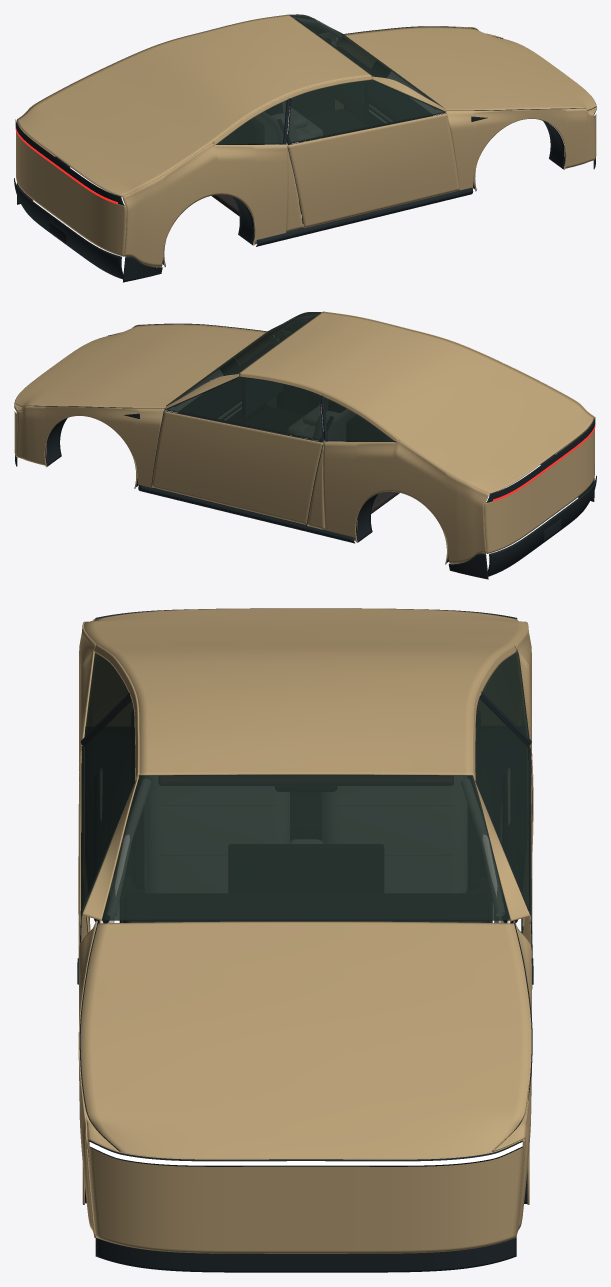
The model's file is cybercab-body.glb.
3 renders of one model, top to bottom at view 1: azimuth 30°, elevation 25°; view 2: azimuth 150°, elevation 25°; view 3: azimuth 270°, elevation 25°, orthographic. The views are drawn at different scales.
Visible parts, largest first — view 1: body_hatch, body_fender_1, body_door_1, body_hood, body_window_1, body_rear, detail_rear_valance, body_windshield, detail_quarter_glass_1, detail_rocker_1, detail_rear_applique, detail_rear_bumper_return_1 (+4 smaller); view 2: body_hatch, body_fender_-1, body_hood, body_door_-1, body_window_-1, body_rear, body_windshield, detail_rear_valance, detail_quarter_glass_-1, detail_rocker_-1, detail_rear_applique, detail_rear_bumper_return_-1 (+6 smaller); view 3: body_hood, body_hatch, body_windshield, body_front, detail_front_valance, body_window_1, body_window_-1, body_fender_1, body_fender_-1, detail_headlight, detail_quarter_glass_-1, detail_headlight_recess (+6 smaller).
Part boxes in pixels (x1,y1,x2,y2): body_hatch: (17, 14, 370, 196); body_fender_1: (122, 75, 595, 267); body_door_1: (287, 113, 459, 228); body_hood: (344, 26, 596, 110); body_window_1: (288, 79, 445, 143); body_rear: (16, 131, 126, 256); detail_rear_valance: (14, 178, 123, 279); body_windshield: (289, 14, 443, 107); detail_quarter_glass_1: (216, 100, 286, 144); detail_rocker_1: (256, 187, 473, 246); detail_rear_applique: (15, 119, 124, 205); detail_rear_bumper_return_1: (123, 256, 162, 282); body_hatch: (240, 312, 593, 493); body_fender_-1: (16, 373, 488, 564); body_hood: (14, 324, 266, 408); body_door_-1: (151, 411, 322, 524); body_window_-1: (166, 377, 322, 440); body_rear: (484, 429, 594, 553); body_windshield: (166, 312, 321, 406); detail_rear_valance: (487, 475, 596, 576); detail_quarter_glass_-1: (323, 397, 396, 442); detail_rocker_-1: (138, 485, 354, 543); detail_rear_applique: (486, 417, 595, 502); detail_rear_bumper_return_-1: (448, 553, 488, 579); body_hood: (80, 921, 531, 1158); body_hatch: (84, 608, 528, 775); body_windshield: (101, 774, 510, 920); body_front: (87, 1138, 524, 1253); detail_front_valance: (95, 1238, 516, 1272); body_window_1: (81, 697, 135, 914); body_window_-1: (475, 698, 529, 909); body_fender_1: (78, 619, 139, 1237); body_fender_-1: (472, 622, 533, 1235); detail_headlight: (89, 1142, 522, 1165); detail_quarter_glass_-1: (481, 649, 529, 738); detail_headlight_recess: (89, 1140, 522, 1166).
Size of the model in its own units: 4.5 by 1.23 by 1.77.
